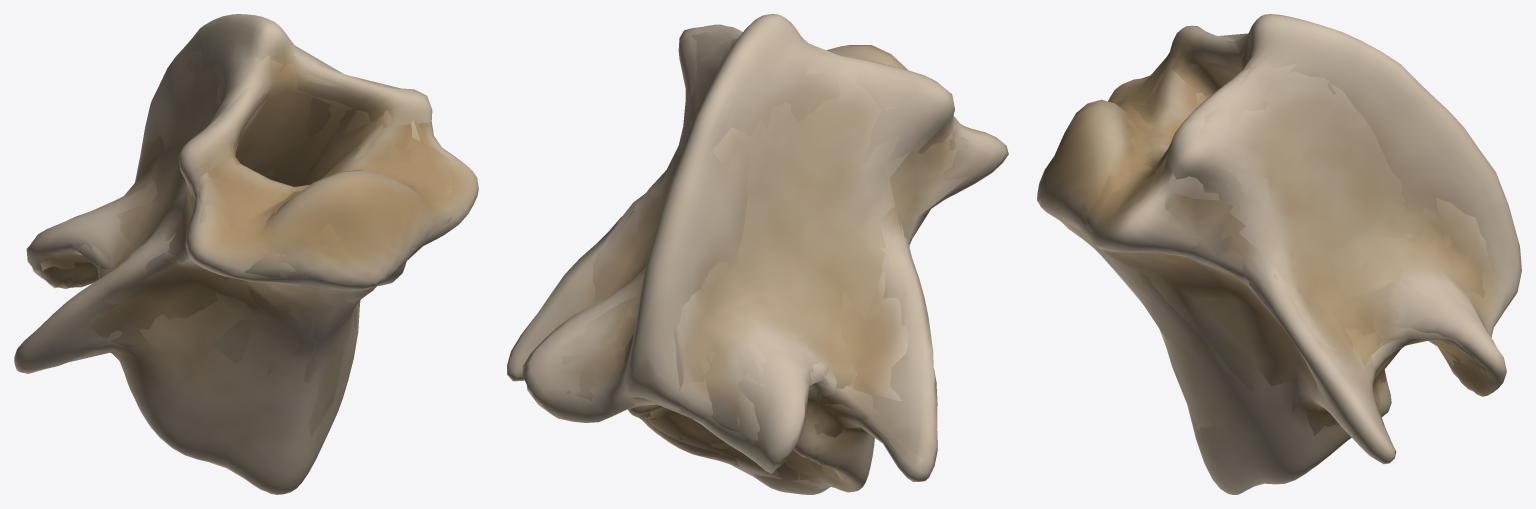
The model's file is vertebra cervicalis 2 axis.fbx.
3 renders of one model, left to right at view 1: azimuth 30°, elevation 25°; view 2: azimuth 150°, elevation 25°; view 3: azimuth 270°, elevation 25°, orthographic. The views are drawn at different scales.
Visible parts, largest first — view 1: vertebra cervicalis 2 axis, vertebra cervicalis 2 axis low; view 2: vertebra cervicalis 2 axis, vertebra cervicalis 2 axis low; view 3: vertebra cervicalis 2 axis, vertebra cervicalis 2 axis low.
Boxes of the visible parts, bbox=[...] form: vertebra cervicalis 2 axis: bbox=[14, 14, 478, 494]; vertebra cervicalis 2 axis low: bbox=[40, 45, 452, 479]; vertebra cervicalis 2 axis: bbox=[507, 14, 1008, 494]; vertebra cervicalis 2 axis low: bbox=[558, 31, 979, 488]; vertebra cervicalis 2 axis: bbox=[1037, 14, 1521, 494]; vertebra cervicalis 2 axis low: bbox=[1054, 31, 1498, 487].
Size of the model in its own units: 11.9 by 13.32 by 12.32.
Materials: 1 (1 with a texture image).
